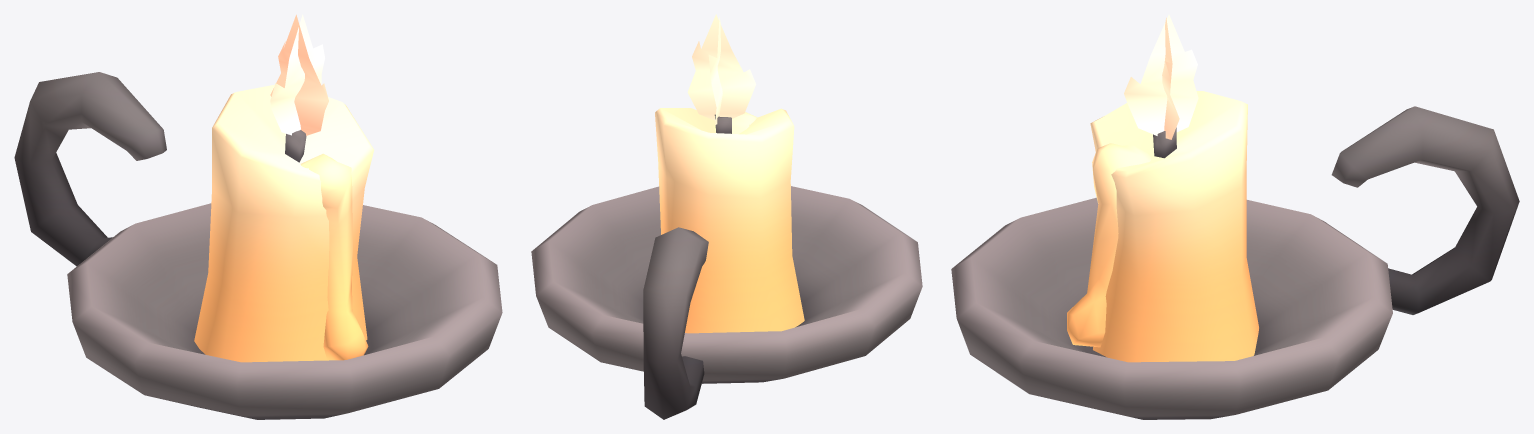
The model's file is candle.glb.
The picture shows the model from 3 angles, left to right: view 1: azimuth 30°, elevation 25°; view 2: azimuth 150°, elevation 25°; view 3: azimuth 270°, elevation 25°; orthographic projection. The views are drawn at different scales.
Visible parts, largest first — view 1: Candle.003; view 2: Candle.003; view 3: Candle.003.
Part boxes in pixels (left/top/right/bottom): Candle.003: left=14, top=14, right=502, bottom=419; Candle.003: left=531, top=14, right=922, bottom=419; Candle.003: left=951, top=14, right=1519, bottom=419.
Bounding box in the file's own units: 1.39 × 1.24 × 1.78.
2 materials, 1 textured.
